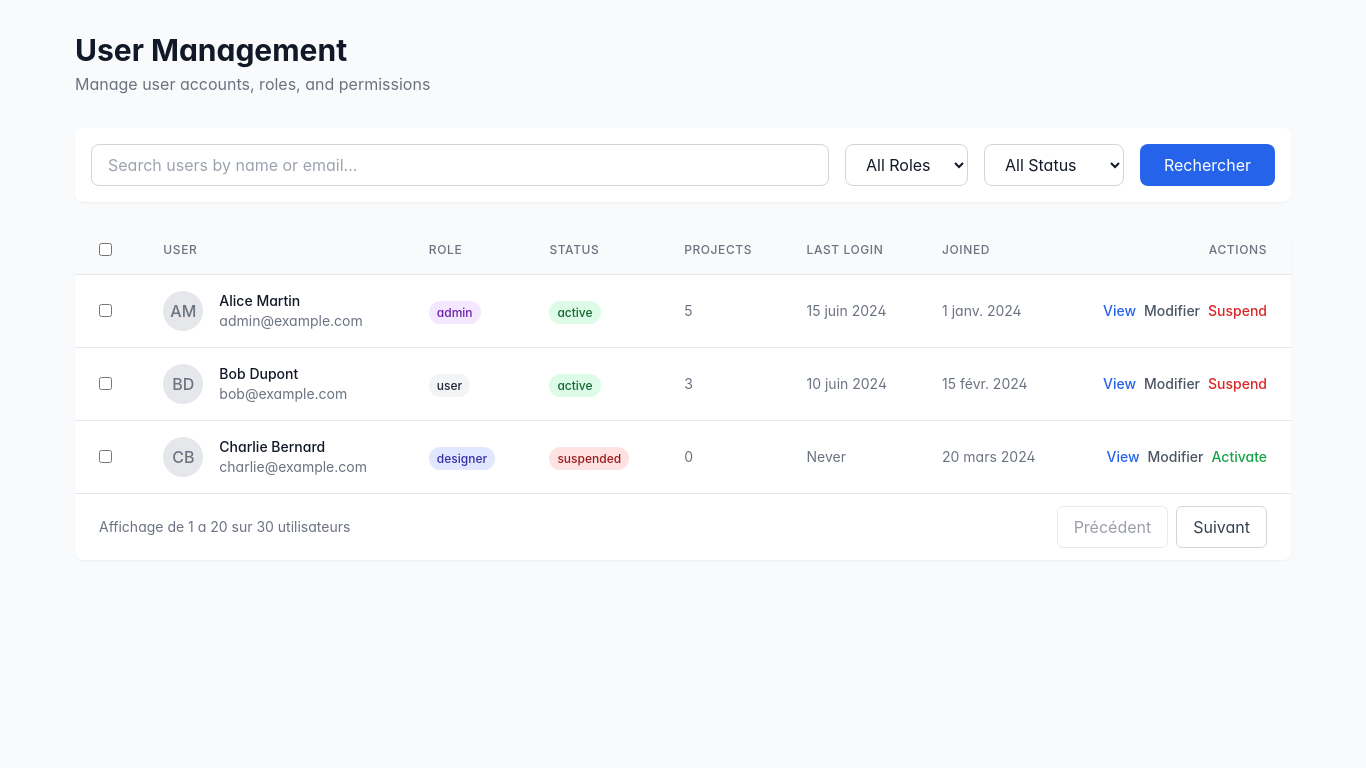
Test: UserManagement › User Selection › should show bulk actions bar when users are selected
Check: the text "Alice Martin" is shown, box [219,292,300,309]
Note: Check the select-all checkbox
Click the checkbox named "selectionner tout" at (106, 250), box [99,243,112,256]
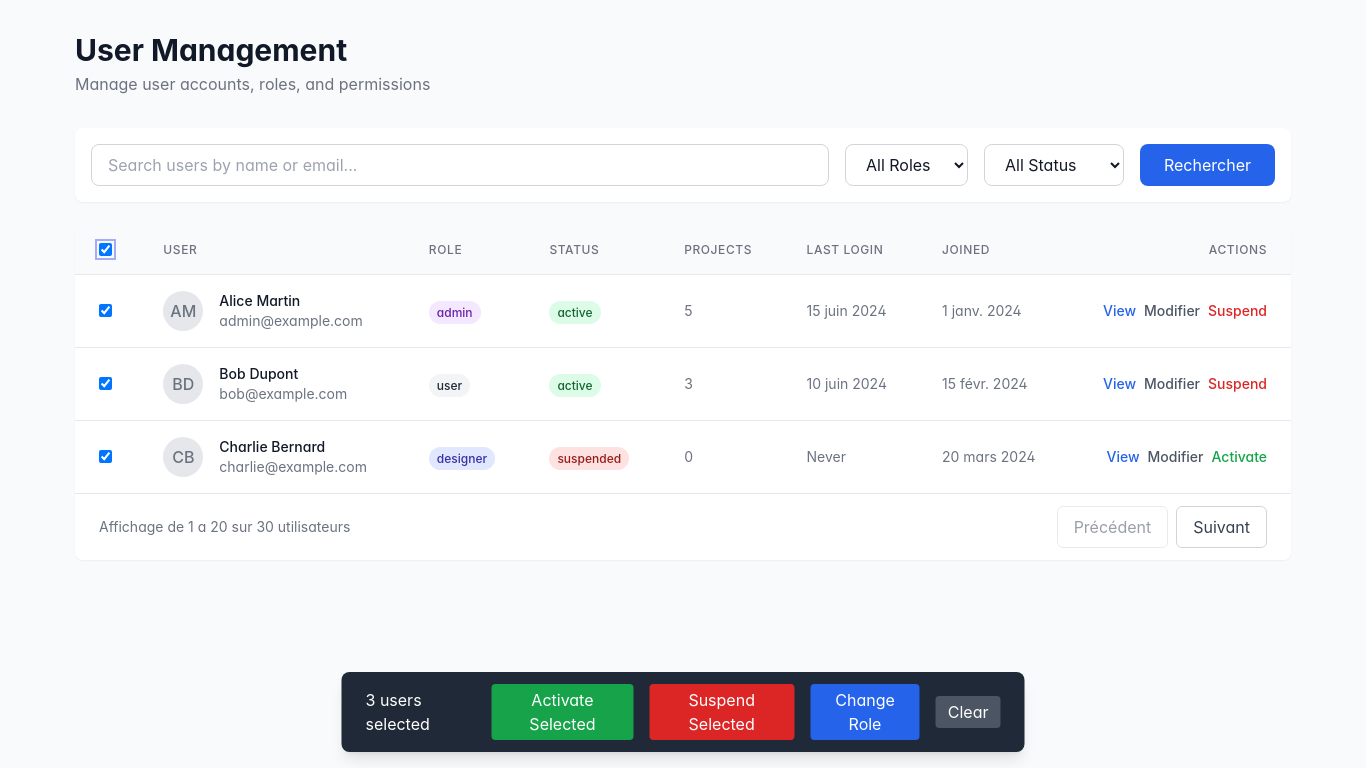
Check: the button "Activate Selected" is shown, box [492,684,633,740]
Check: the button "Suspend Selected" is shown, box [649,684,794,740]
Check: the button "Change Role" is shown, box [810,684,920,740]
